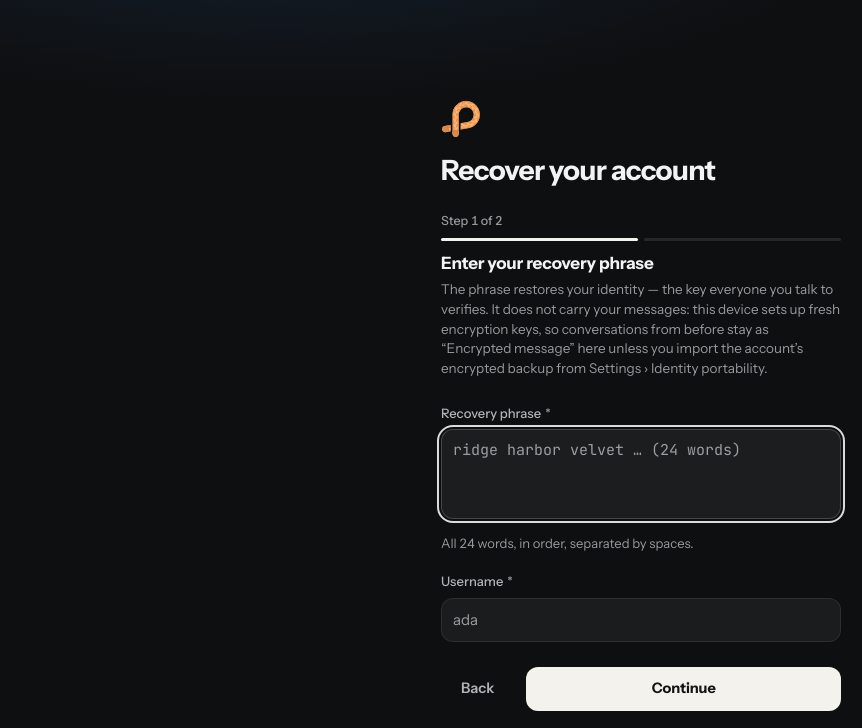
Account recovery setup flows › validates recovery phrase shape before recovering an account
Type "too short" into the text box labelled "Recovery phrase *" at (641,474), box [441, 429, 841, 519]
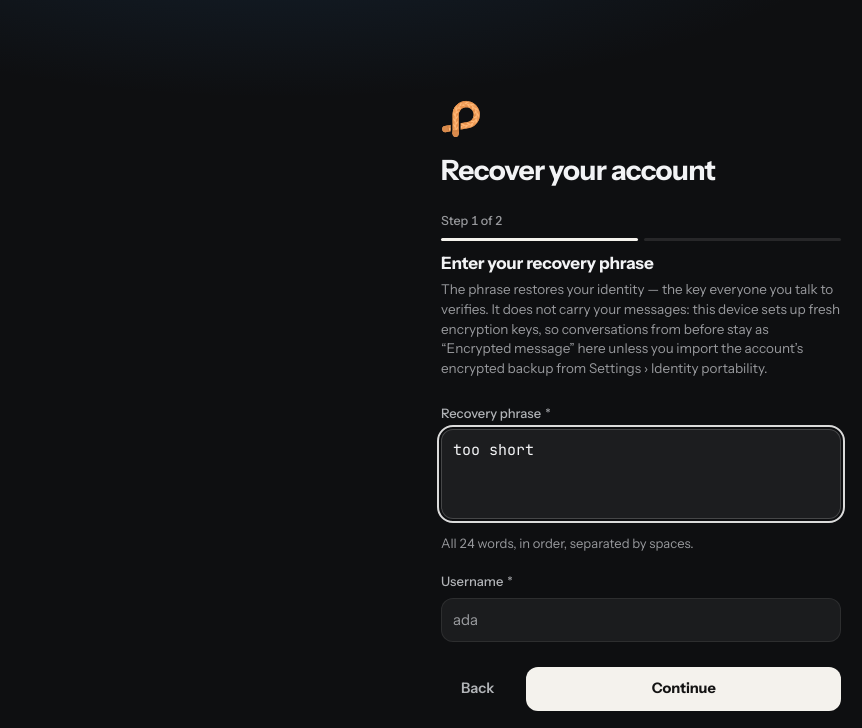
Type "alice" into the field labelled "Username *" at (641,620), box [441, 598, 841, 642]
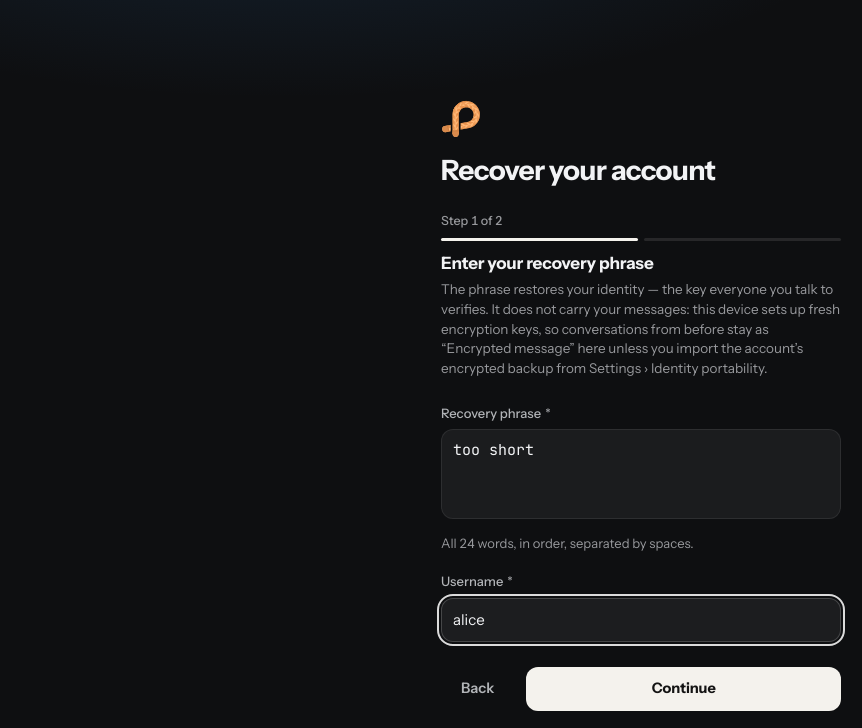
Click the button "Continue" at (684,689), box [526, 667, 841, 711]
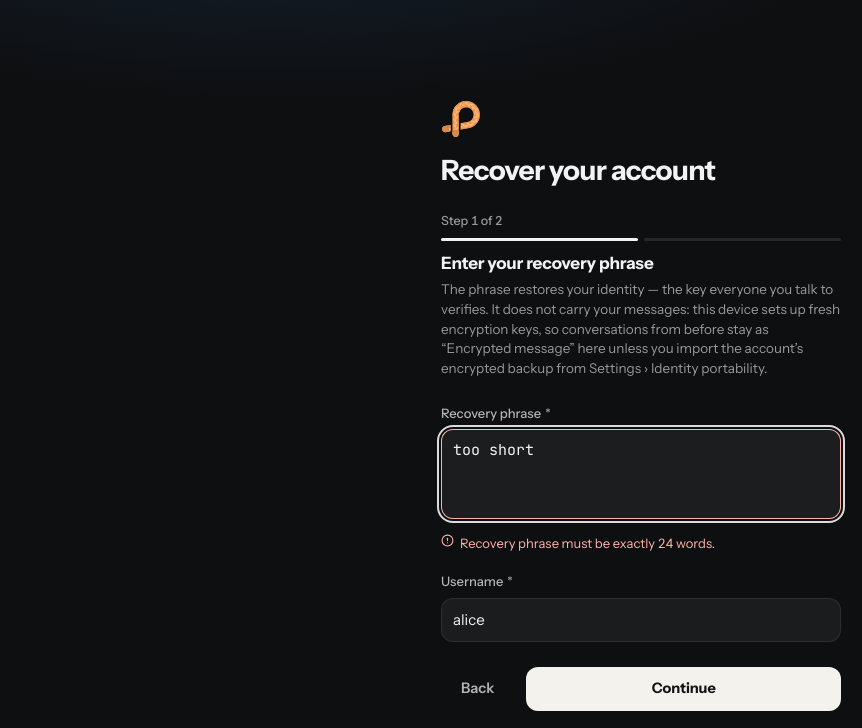
Expected: the text "Step 1 of 2" is shown, [441, 213, 502, 228]
Expected: the text "Recovery phrase must be exactly 24 words." is shown, [460, 533, 715, 553]
